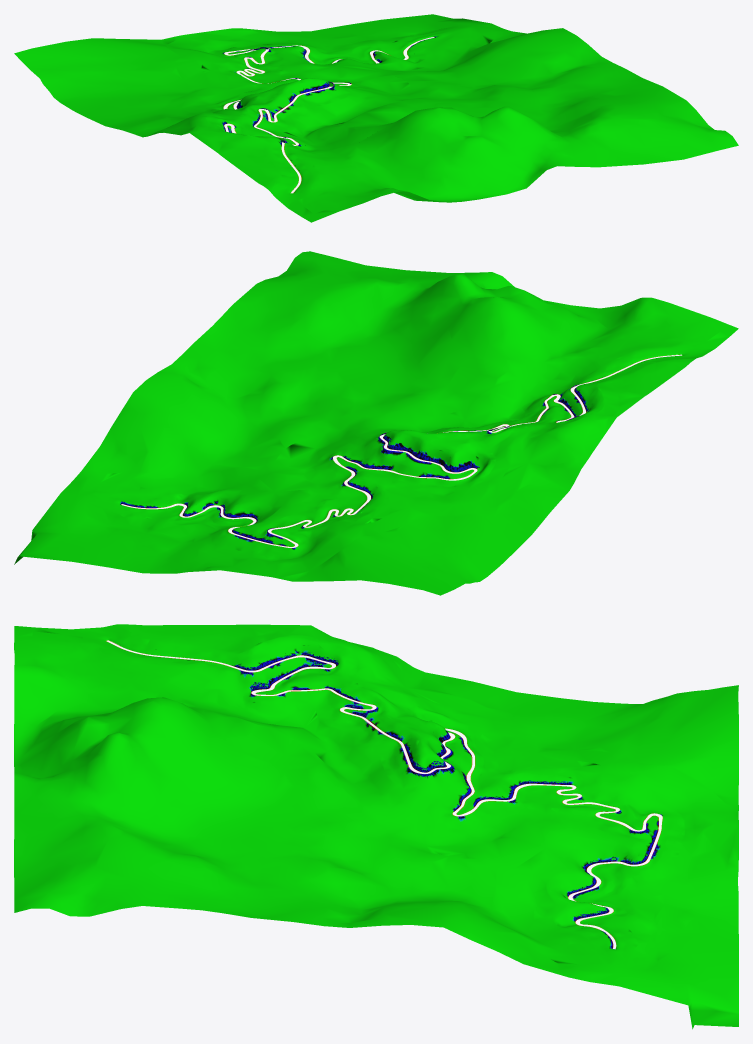
Rendered from Terrain_MAX.fbx.
3 renders of one model, top to bottom at view 1: azimuth 30°, elevation 25°; view 2: azimuth 150°, elevation 25°; view 3: azimuth 270°, elevation 25°, orthographic. The views are drawn at different scales.
Visible parts, largest first — view 1: polySurface561; view 2: polySurface561; view 3: polySurface561.
Part boxes in pixels (<box>): polySurface561: <box>14,14,738,222</box>; polySurface561: <box>14,251,738,595</box>; polySurface561: <box>14,624,738,1029</box>.
Bounding box in the file's own units: 2524 × 848 × 3037.
